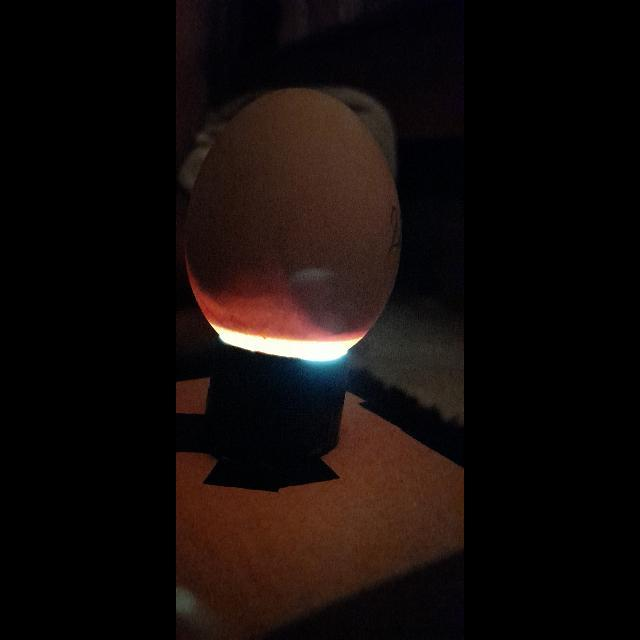Fertile: (186, 85, 398, 363)
